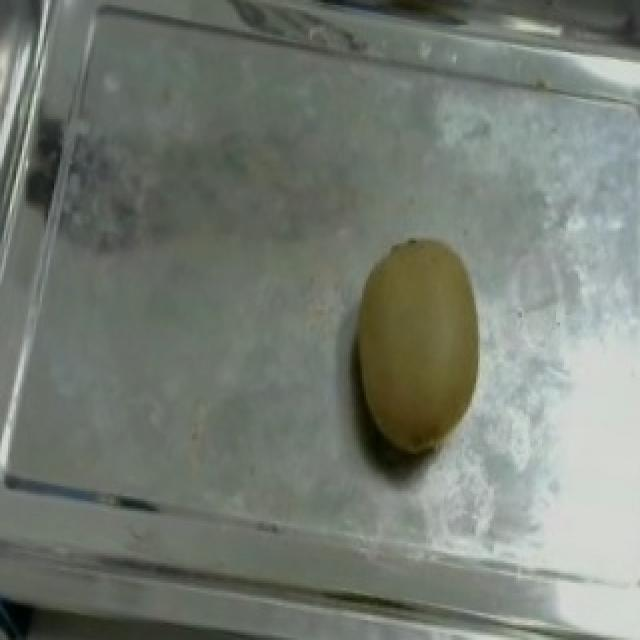Fruit: (328, 226, 504, 478)
